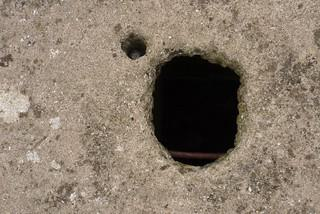Exposed reinforcement: (167, 150, 223, 158)
Spalling: (150, 46, 244, 170), (120, 33, 147, 60)
